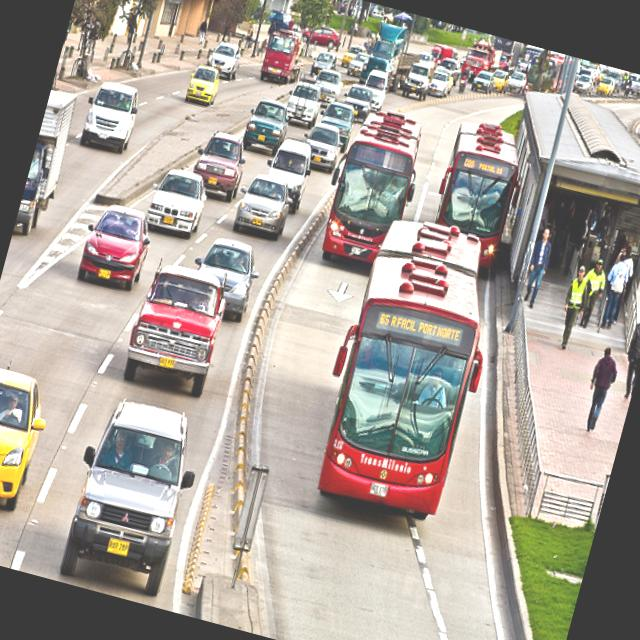Vehicle: (300, 204, 518, 526), (54, 393, 210, 600), (310, 100, 436, 278), (421, 117, 532, 284), (115, 254, 233, 406), (12, 84, 86, 242), (72, 190, 164, 298), (0, 357, 61, 510), (181, 231, 266, 324), (185, 126, 253, 206), (357, 18, 426, 96), (143, 163, 211, 240), (255, 134, 318, 215), (229, 169, 296, 243), (255, 23, 312, 88), (239, 96, 294, 156), (298, 118, 344, 172), (457, 30, 502, 83), (180, 60, 224, 107), (337, 84, 378, 125), (204, 40, 243, 82)
